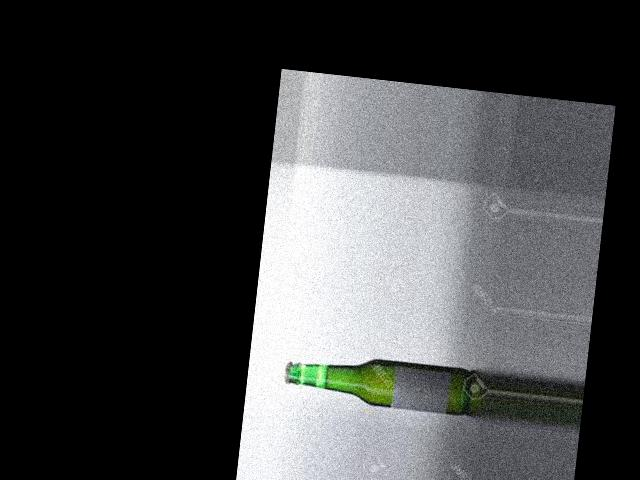beer: (282, 348, 471, 416)
